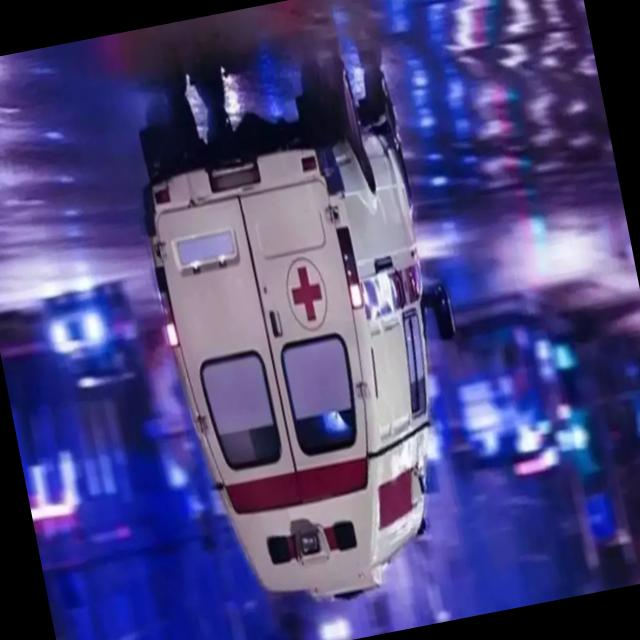ambulance: (98, 34, 529, 639)
